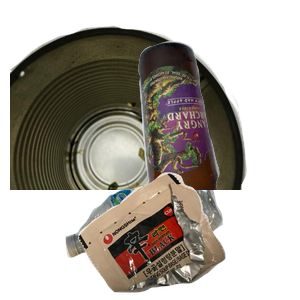glass: (136, 39, 300, 219)
metal: (10, 23, 250, 203)
plastic: (63, 170, 278, 300)
trash: (76, 170, 300, 300)
